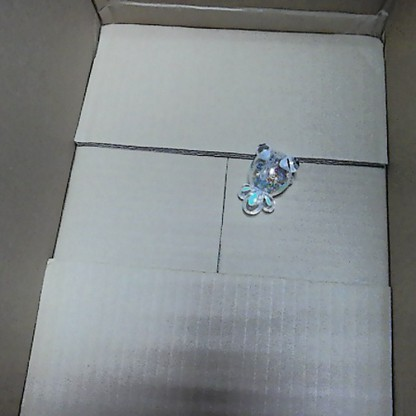whitefish: (234, 139, 301, 216)
